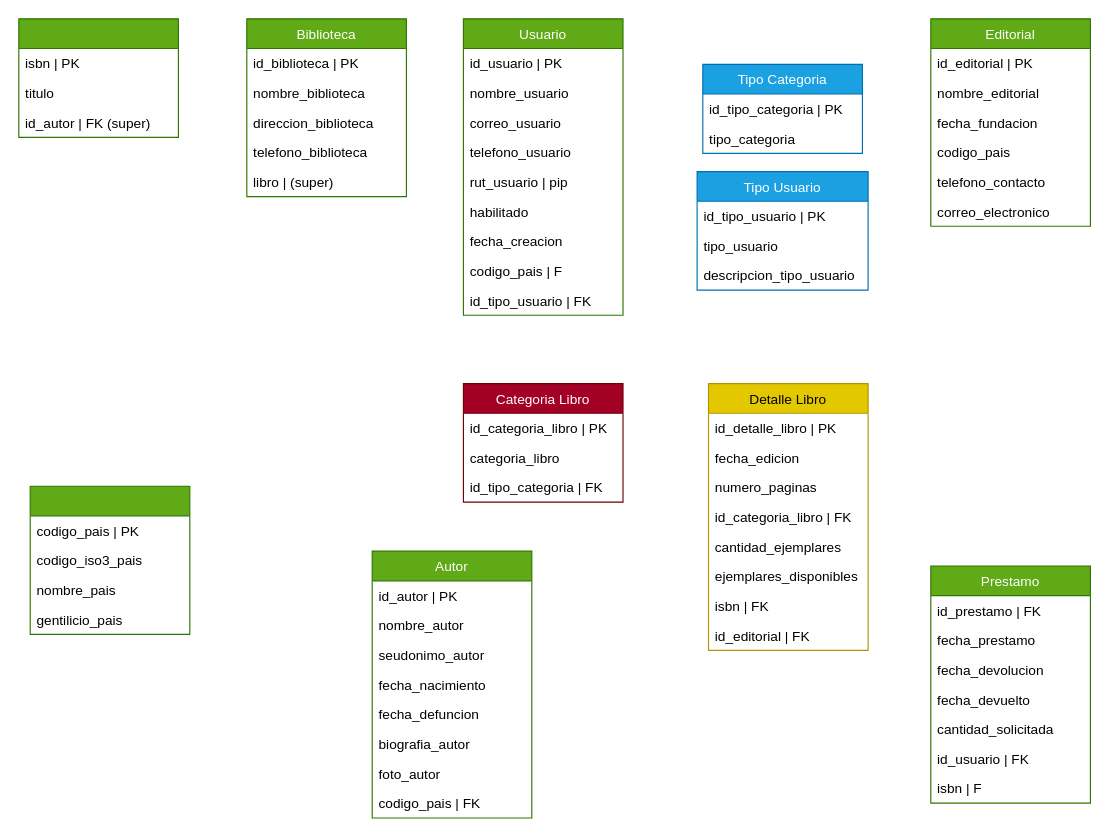
The diagram is 1109 pixels wide and 837 high, and some of its shapes have lost their labels. The shapes that lost their labels are listed below. From the top down, each one's box as (x1, y1, x2, y2) in pixels, then its label:
(18, 18, 178, 137): Libro
(29, 485, 190, 634): Paises
